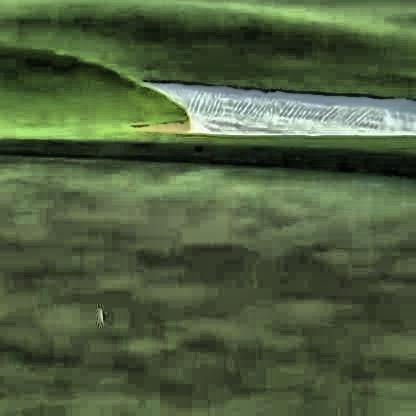golfball: (93, 298, 104, 320)
